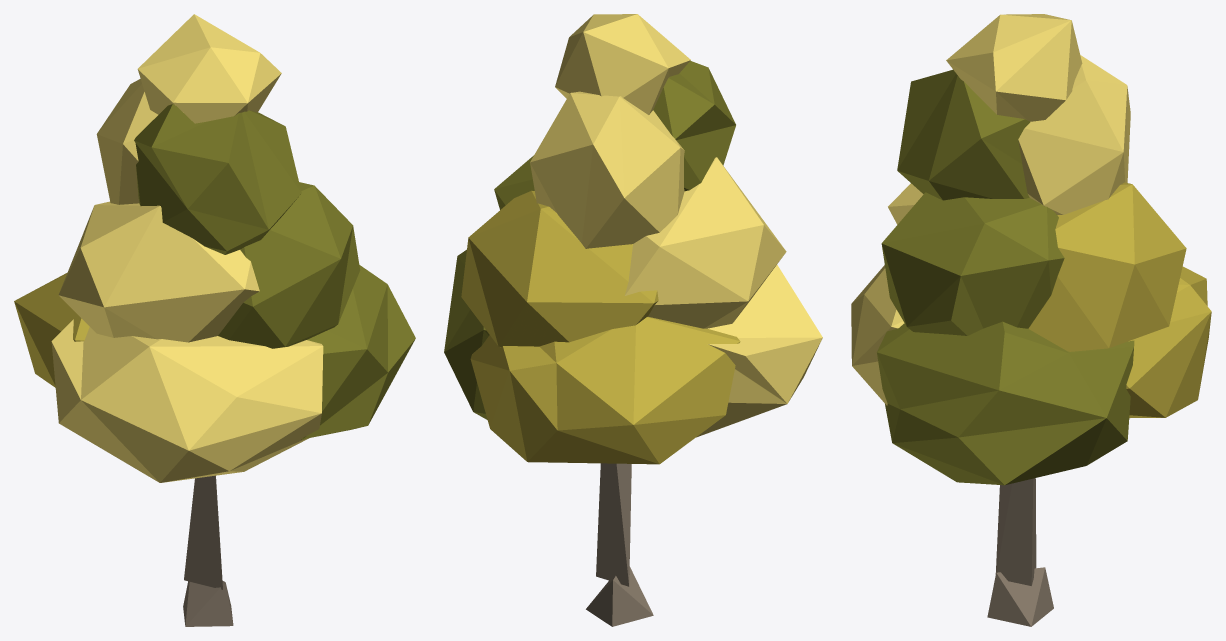
The model's file is tree_beech_4_lod1.glb.
3 views of the same model, side by side, from view 1: azimuth 30°, elevation 25°; view 2: azimuth 150°, elevation 25°; view 3: azimuth 270°, elevation 25° (orthographic). The views are drawn at different scales.
Visible parts, largest first — view 1: tree_beech_4_lod1; view 2: tree_beech_4_lod1; view 3: tree_beech_4_lod1.
Boxes of the visible parts, x1=… form: tree_beech_4_lod1: x1=14, y1=14, x2=415, y2=626; tree_beech_4_lod1: x1=444, y1=14, x2=822, y2=626; tree_beech_4_lod1: x1=851, y1=14, x2=1211, y2=626.
Size of the model in its own units: 6.13 by 10.02 by 5.47.
